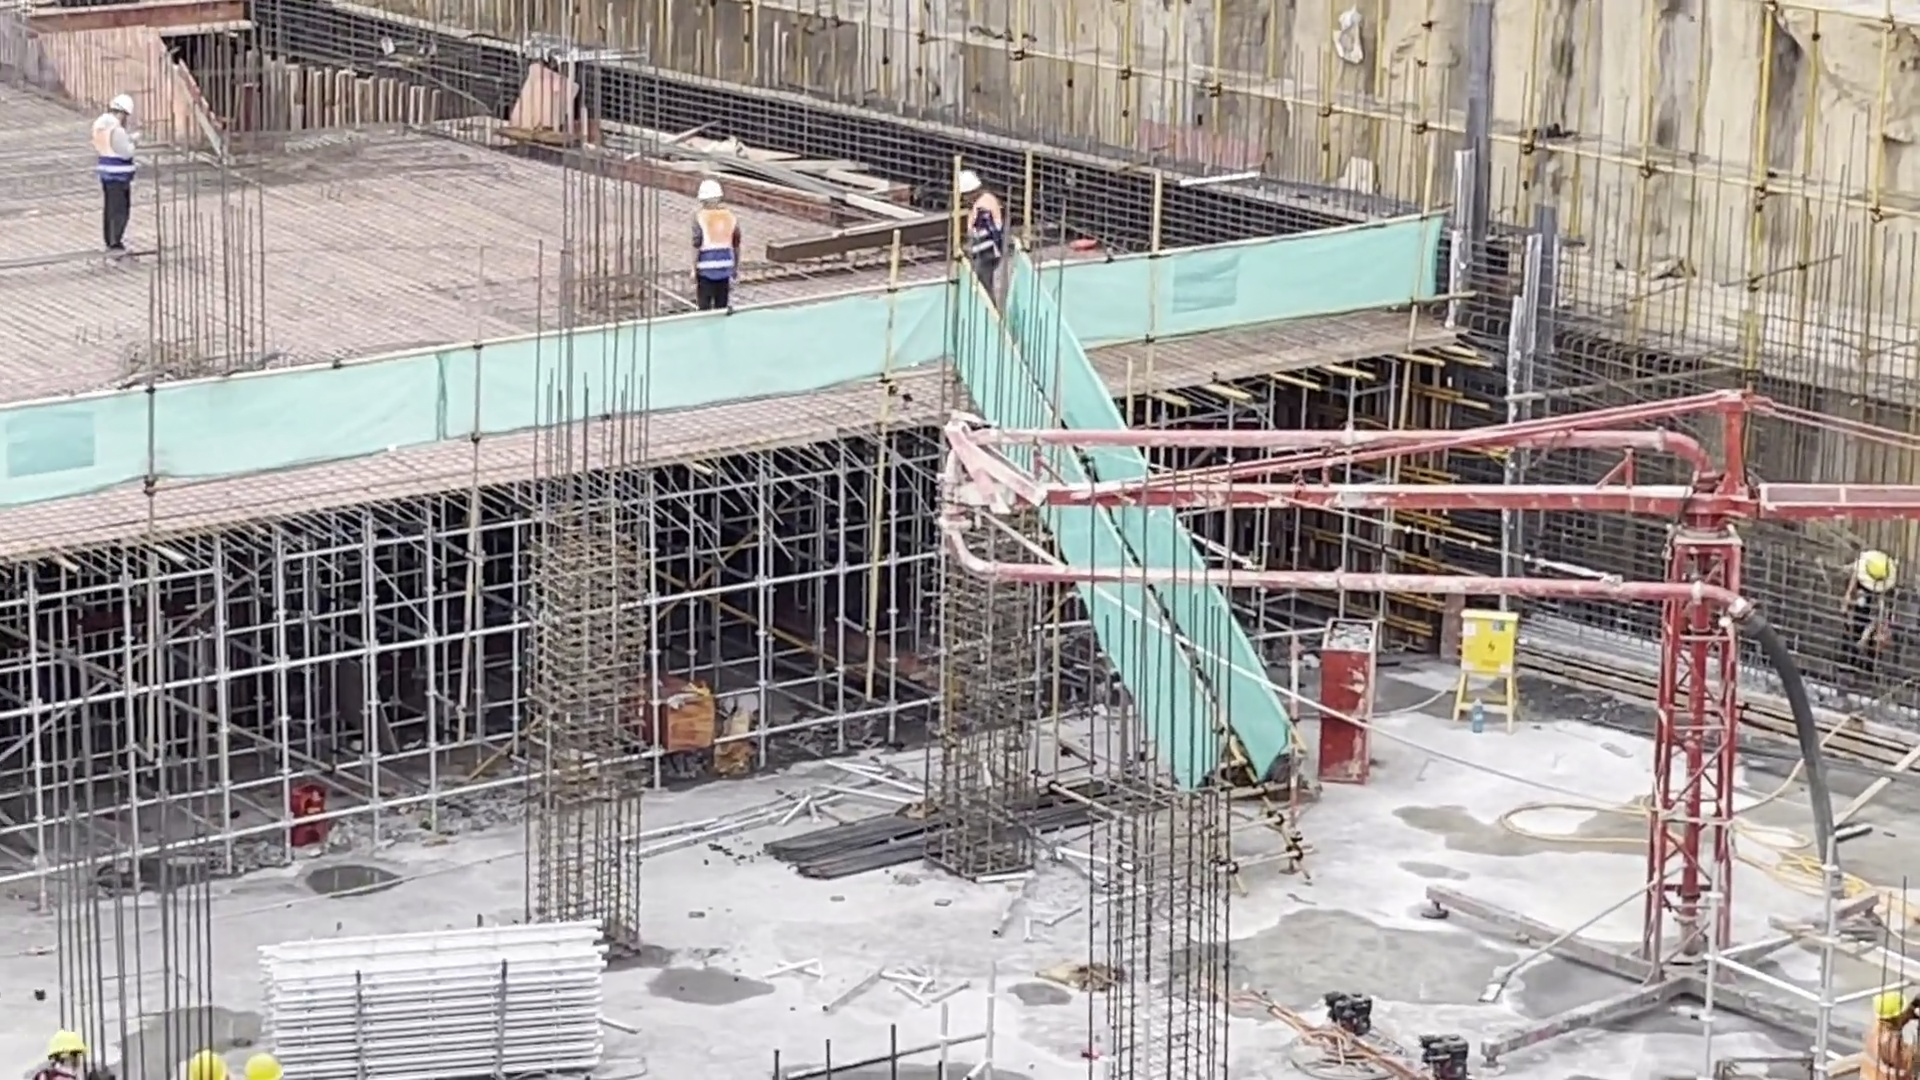ebox: (1459, 603, 1518, 687)
helmet: (169, 1046, 229, 1080), (1863, 542, 1896, 601), (236, 1046, 291, 1080), (42, 1024, 83, 1059), (959, 165, 988, 200), (1876, 994, 1905, 1028), (105, 90, 145, 113), (699, 168, 726, 201)
person: (85, 84, 149, 251), (1845, 552, 1909, 719), (688, 161, 749, 315), (946, 159, 1016, 289), (1865, 977, 1920, 1079)
scaffold: (253, 917, 614, 1076)
vest: (687, 209, 740, 286), (959, 201, 1012, 269), (91, 119, 137, 183)
